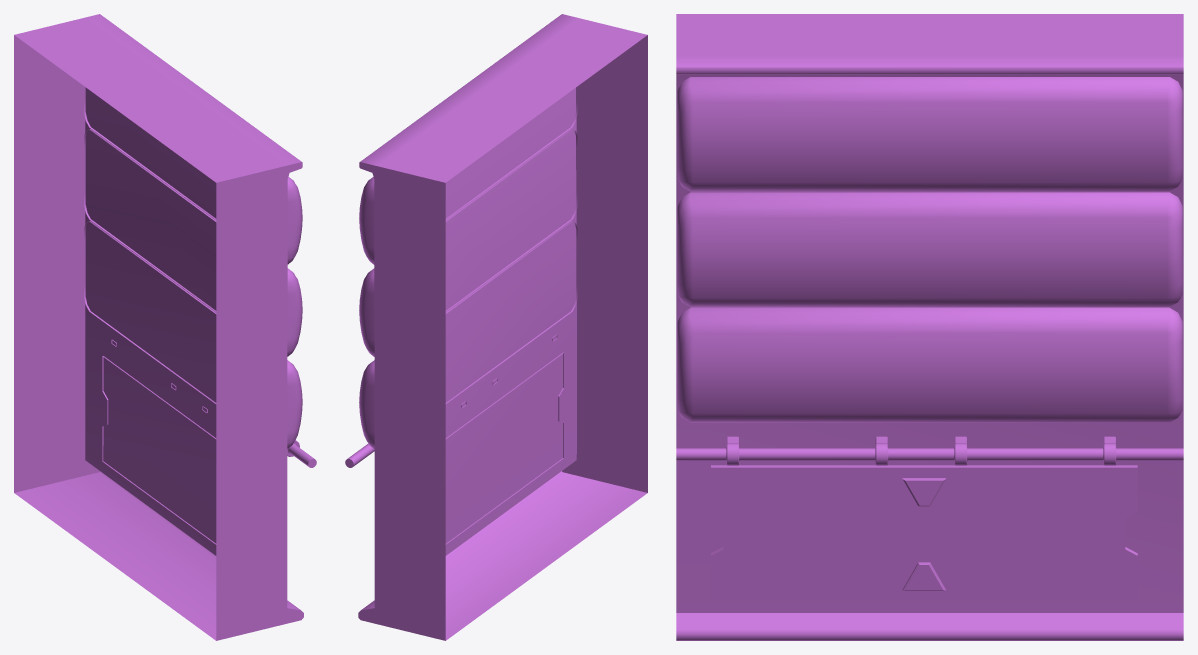
The model's file is pared11.fbx.
3 views of the same model, side by side, from view 1: azimuth 30°, elevation 25°; view 2: azimuth 150°, elevation 25°; view 3: azimuth 270°, elevation 25° (orthographic). The views are drawn at different scales.
Visible parts, largest first — view 1: 20dd001; view 2: 20dd001; view 3: 20dd001.
Part boxes in pixels (x1,y1,x2,y2): 20dd001: (14,14,316,640); 20dd001: (345,14,647,640); 20dd001: (676,14,1183,640).
Size of the model in its own units: 59.46 by 250 by 200.
